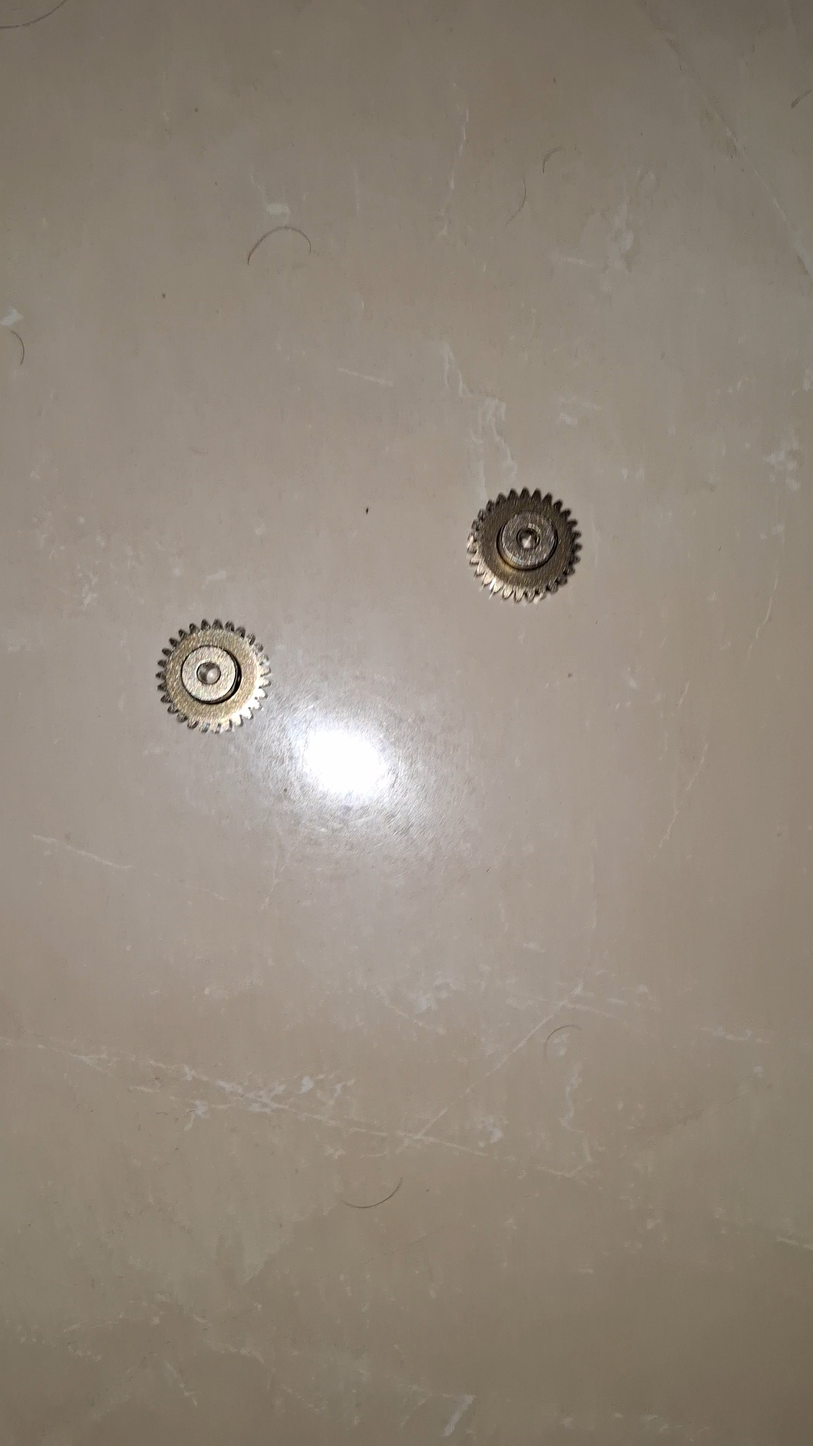spur gear: (468, 489, 580, 601), (157, 620, 269, 732)
